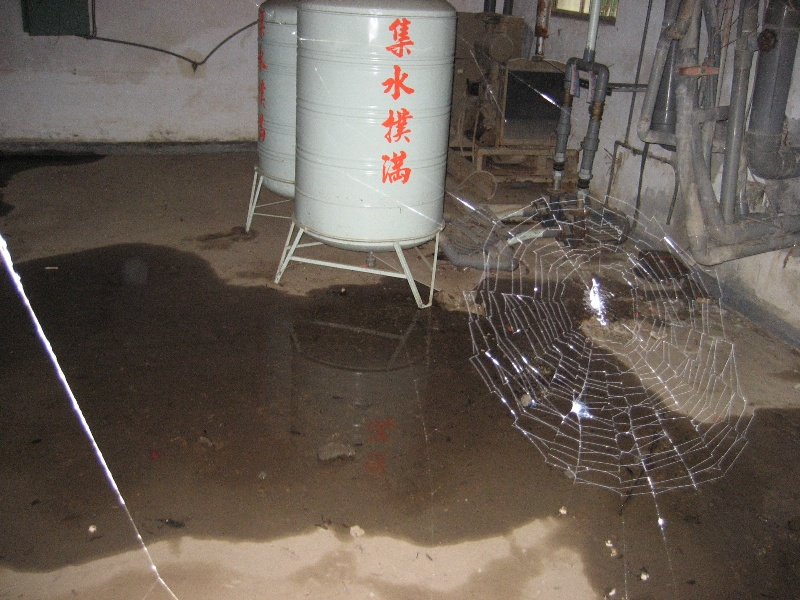water_tower: (272, 1, 459, 309)
